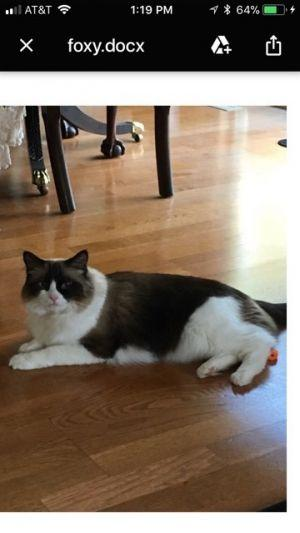ragdoll: (11, 241, 104, 330)
